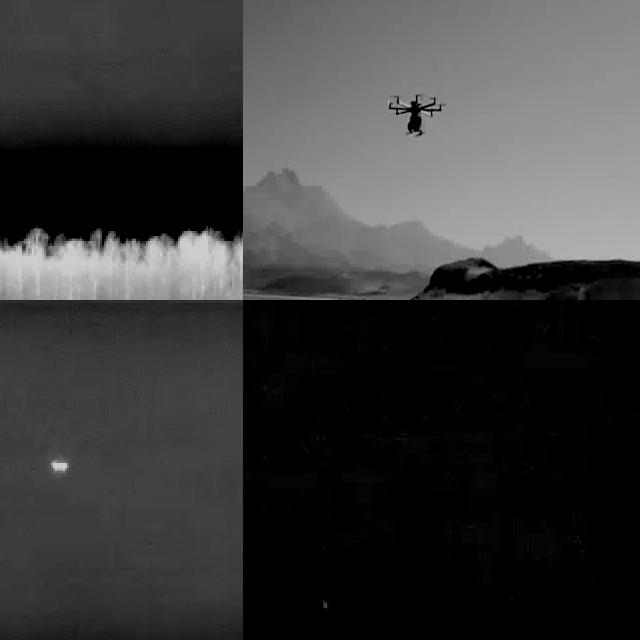0: (314, 592, 338, 624)
1: (43, 456, 79, 486)
drone: (384, 86, 444, 142)
